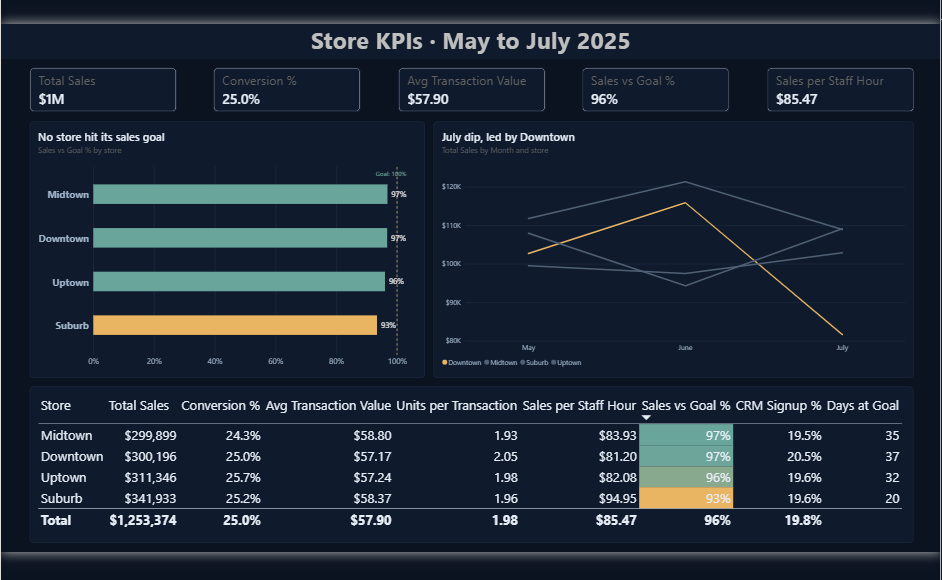

The page's visual inventory and layout, read from the dashboard file:
{"tool":"powerbi","page":{"name":"Page 1","canvas":[1920,1080],"ordinal":0},"visuals":[{"type":"textbox","box":[0,0,1920,71.5],"z":0},{"type":"cardVisual","fields":{"Data":["retail_sales.Total Sales"]},"box":[57.7,89.8,300,90],"z":1000},{"type":"cardVisual","fields":{"Data":["retail_sales.Conversion %"]},"box":[434.6,89.8,300,90],"z":2000},{"type":"cardVisual","fields":{"Data":["retail_sales.Avg Transaction Value"]},"box":[811.4,89.8,300,90],"z":3000},{"type":"cardVisual","fields":{"Data":["retail_sales.Sales vs Goal %"]},"box":[1188.2,89.8,300,90],"z":4000},{"type":"cardVisual","fields":{"Data":["retail_sales.Sales per Staff Hour"]},"box":[1565.1,89.8,300,90],"z":5000},{"type":"clusteredBarChart","title":"No store hit its sales goal","fields":{"Category":["retail_sales.store"],"Y":["retail_sales.Sales vs Goal %"]},"box":[58.7,199.1,806.8,523.4],"z":6000},{"type":"lineChart","title":"July dip, led by Downtown","fields":{"Category":["retail_sales.date.Variation.Date Hierarchy.Month"],"Series":["retail_sales.store"],"Y":["retail_sales.Total Sales"]},"box":[883.4,199.1,980.4,523.4],"z":7000},{"type":"tableEx","fields":{"Values":["retail_sales.store","retail_sales.Total Sales","retail_sales.Conversion %","retail_sales.Avg Transaction Value","retail_sales.Units per Transaction","retail_sales.Sales per Staff Hour","retail_sales.Sales vs Goal %","retail_sales.CRM Signup %","retail_sales.Days at Goal"]},"box":[58.7,740.4,1805.1,319.1],"z":8000}]}

Visuals, with their boxes on the page's 1920x1080 design canvas (x1, y1, x2, y2). These are canvas units, not pixel positions in the 942x580 screenshot, which may show the page scaled, cropped or inside an application window:
textbox: 0,0,1920,72
cardVisual - retail_sales.Total Sales: 58,90,358,180
cardVisual - retail_sales.Conversion %: 435,90,735,180
cardVisual - retail_sales.Avg Transaction Value: 811,90,1111,180
cardVisual - retail_sales.Sales vs Goal %: 1188,90,1488,180
cardVisual - retail_sales.Sales per Staff Hour: 1565,90,1865,180
"No store hit its sales goal" clusteredBarChart: 59,199,866,722
"July dip, led by Downtown" lineChart: 883,199,1864,722
tableEx - retail_sales.store x retail_sales.Total Sales: 59,740,1864,1060
